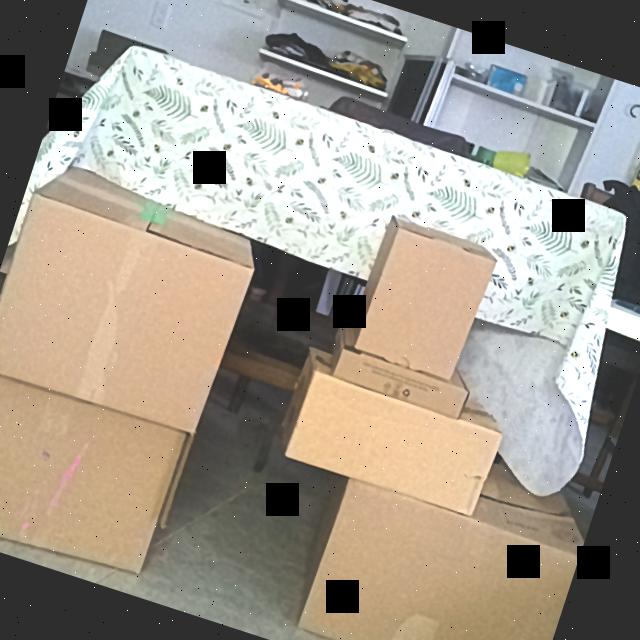box: (0, 193, 248, 437), (297, 479, 580, 640), (0, 356, 189, 582), (285, 369, 505, 519), (356, 230, 494, 382), (334, 348, 471, 420)
